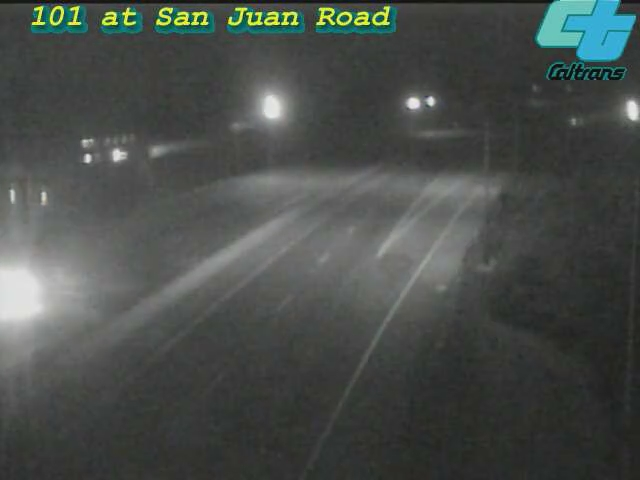vehicle: (1, 254, 51, 334), (606, 86, 640, 136)
